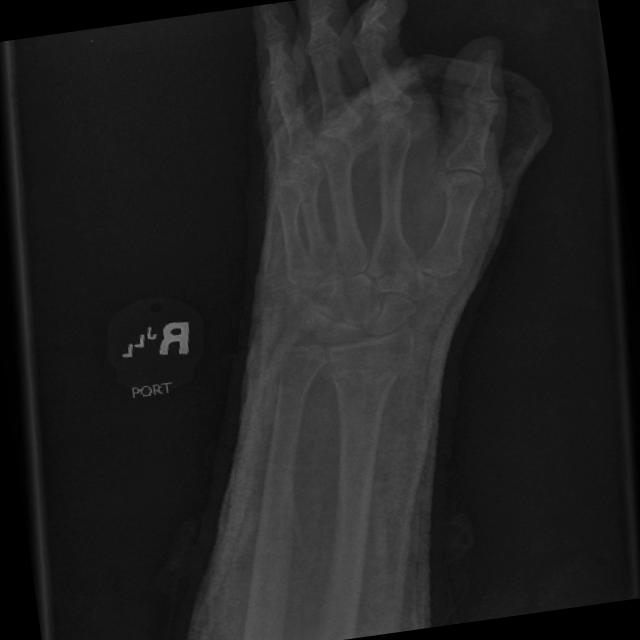fingers positive: (237, 328, 465, 439)
